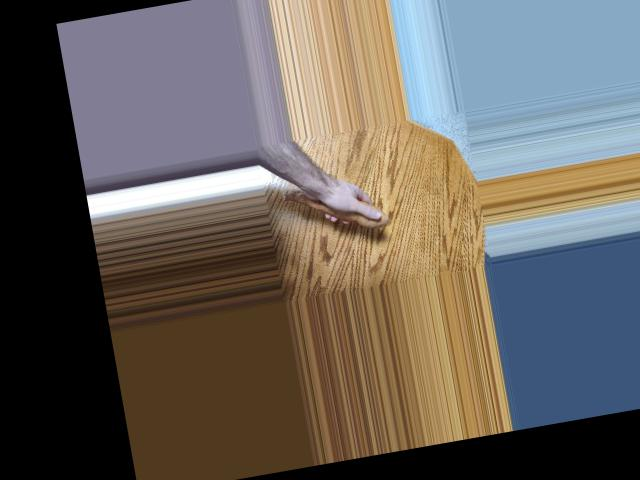sweet_potato: (276, 170, 391, 246)
